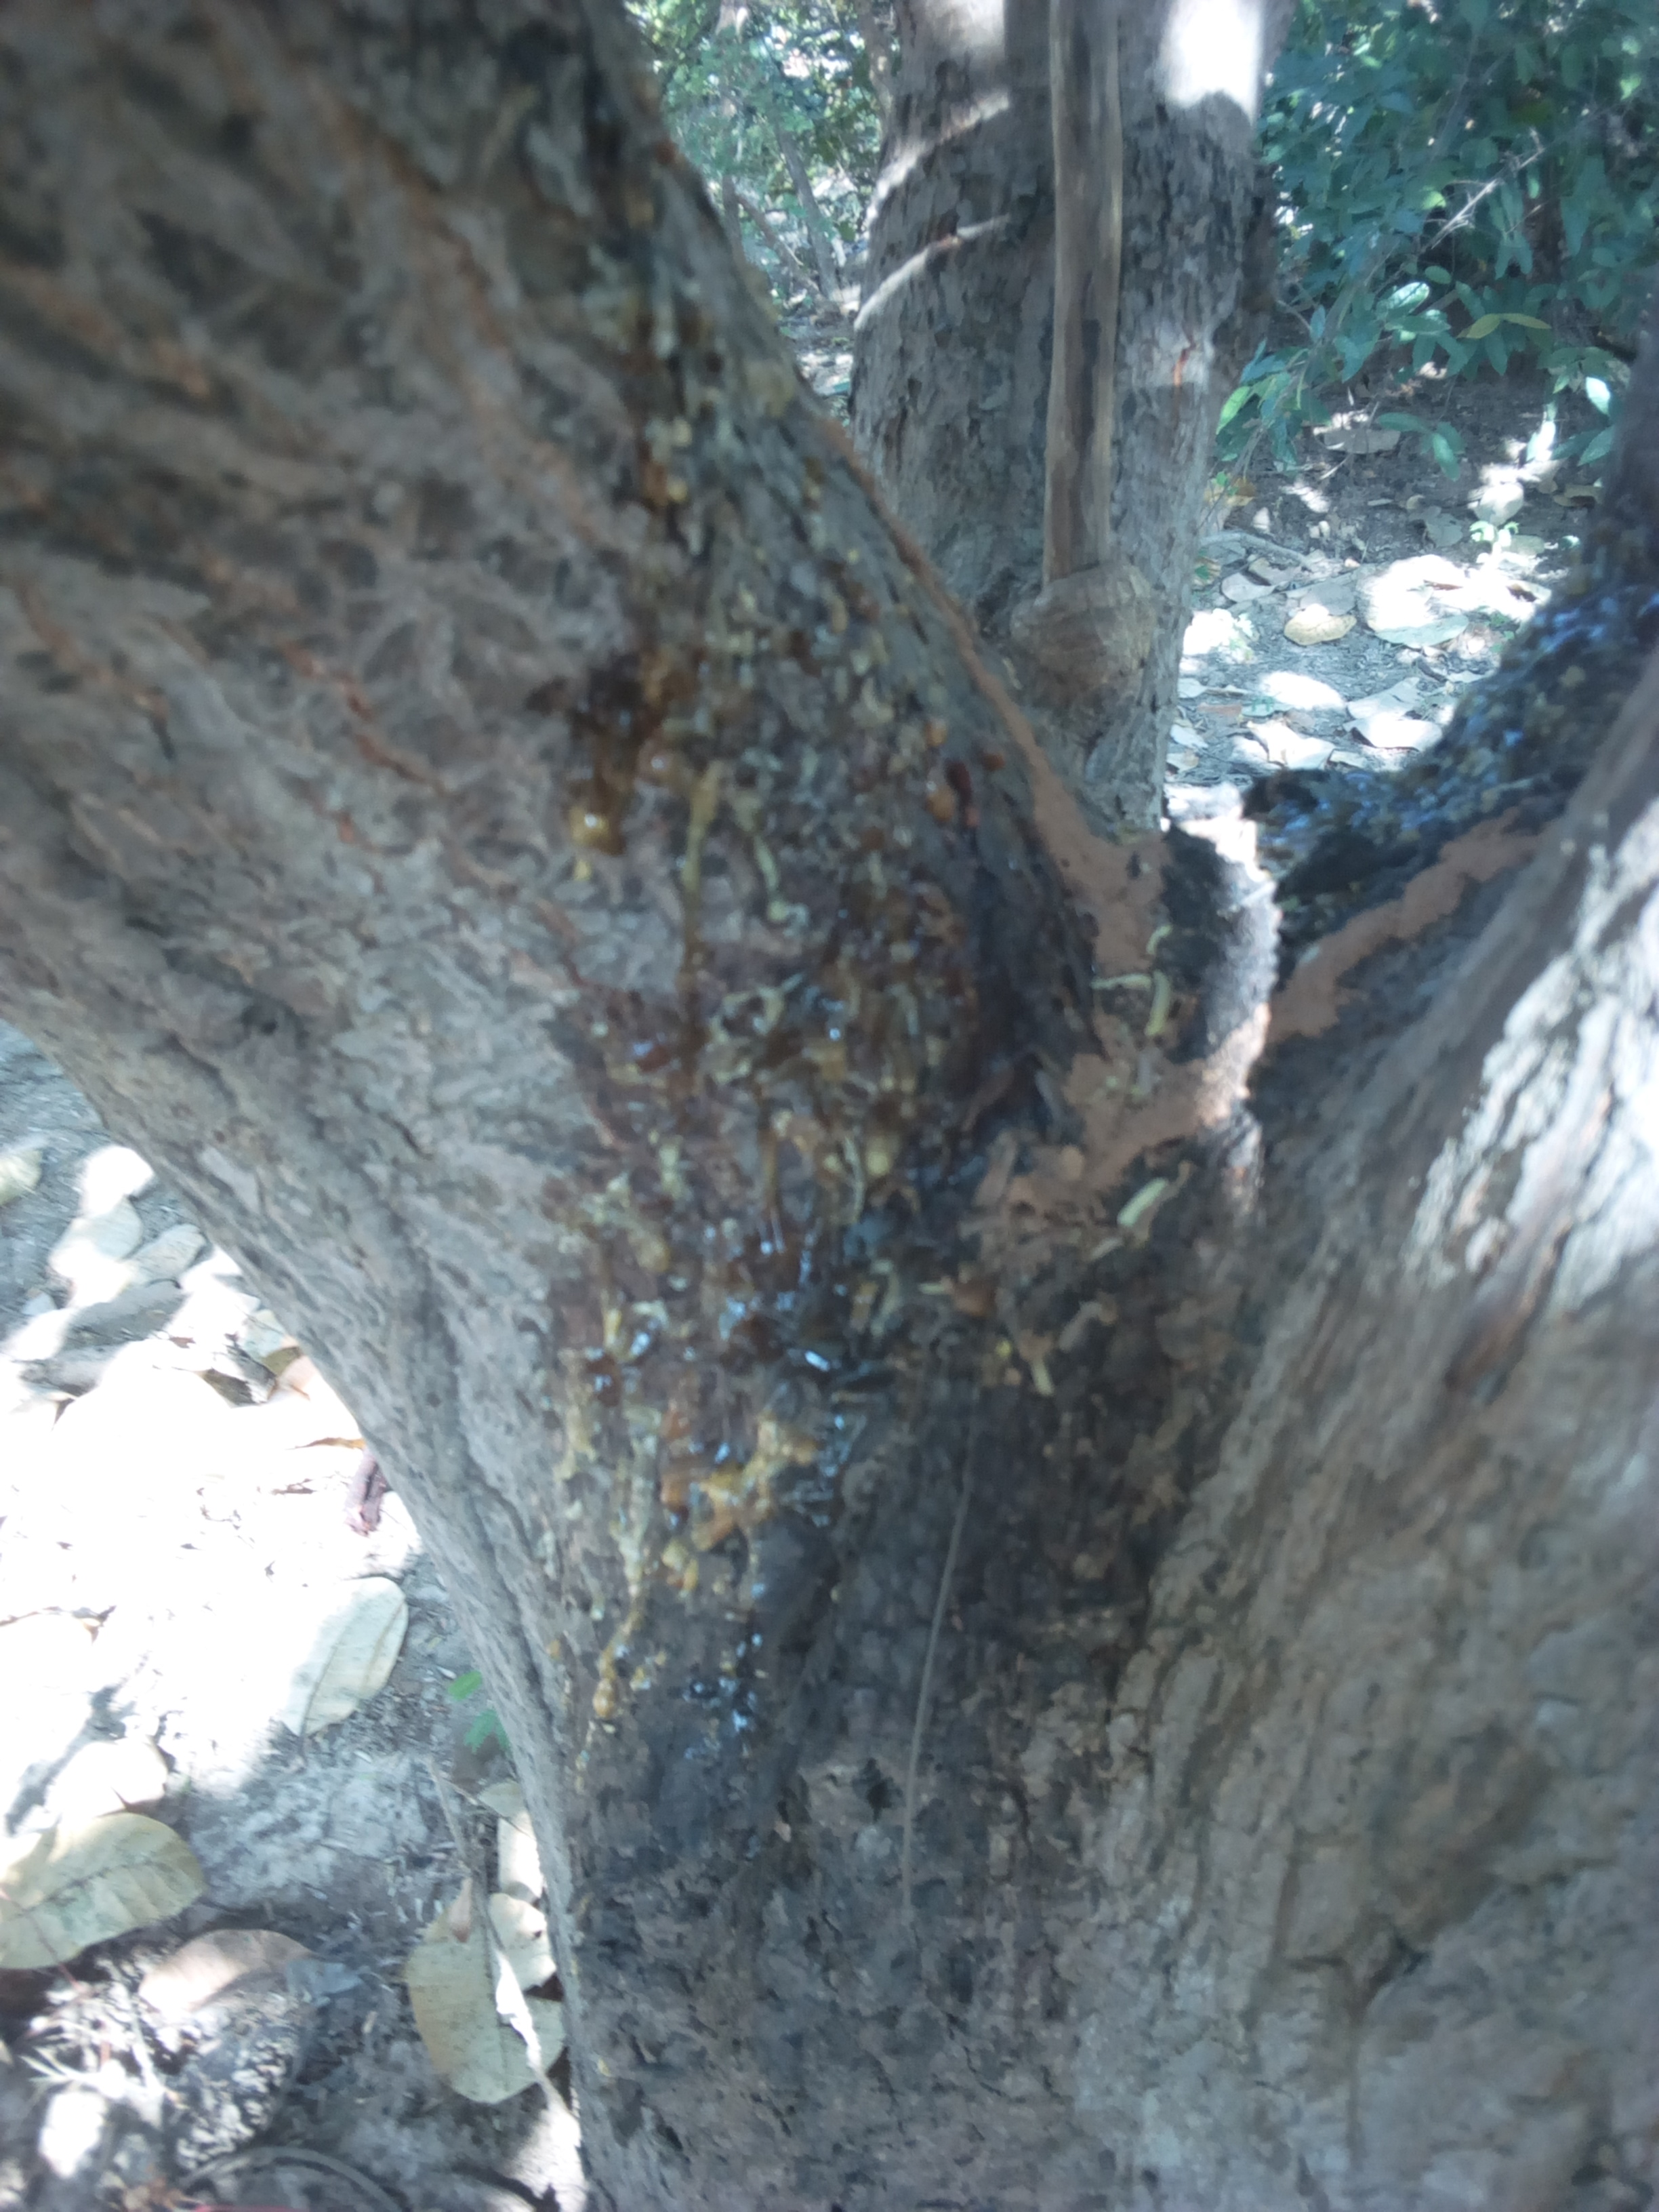Gommose: (561, 554, 1016, 1777)
